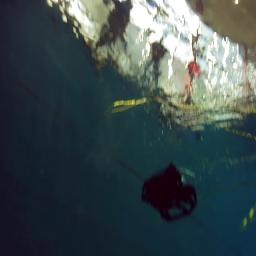front: (142, 160, 198, 223)
